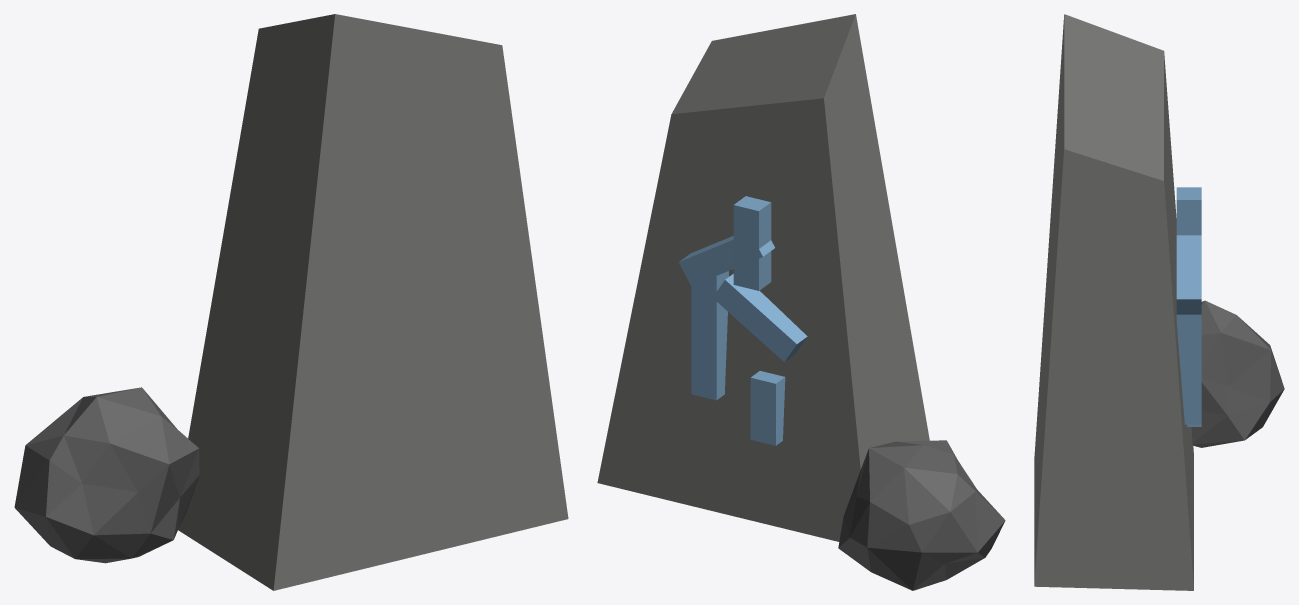
Rendered from Scatter_RuneStoneSmall.fbx.
3 renders of one model, left to right at view 1: azimuth 30°, elevation 25°; view 2: azimuth 150°, elevation 25°; view 3: azimuth 270°, elevation 25°, orthographic. The views are drawn at different scales.
Visible parts, largest first — view 1: RuneStoneSmall; view 2: RuneStoneSmall; view 3: RuneStoneSmall.
Part boxes in pixels (x1,y1,x2,y2): RuneStoneSmall: (14,14,568,590); RuneStoneSmall: (597,14,1005,590); RuneStoneSmall: (1034,14,1284,590).
Bounding box in the file's own units: 4.65 × 5.3 × 2.51.
